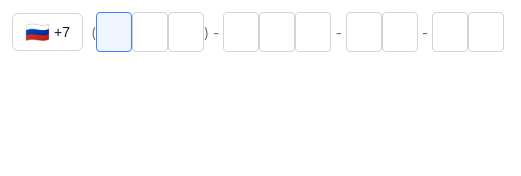
Test: PhoneInput › should open dropdown when flag is clicked
Click the button named "select country".
click(47, 32)  # box [12,13,83,51]
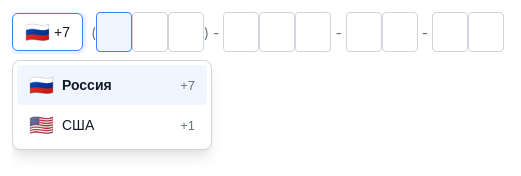
Expected: the list is shown, [12,60,212,150]
Expected: the text "Россия" is shown, [62,77,112,93]
Expected: the text "США" is shown, [62,117,94,133]
